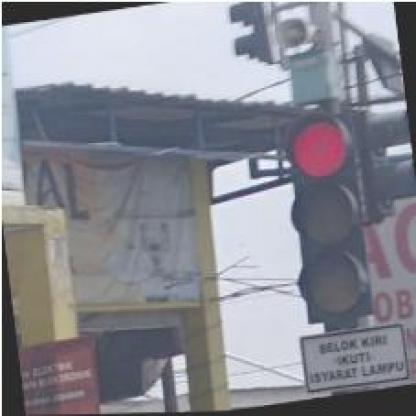red: (279, 110, 373, 326)
